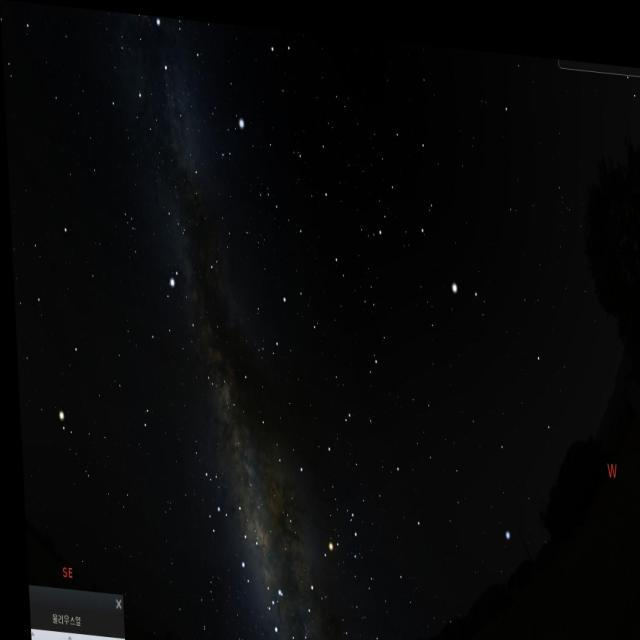aquila: (142, 252, 232, 407)
bootes: (382, 106, 490, 319)
cygnus: (130, 11, 212, 201)
lyra: (210, 103, 254, 169)
sagittarius: (182, 455, 249, 566)
scorpius: (255, 475, 364, 640)
